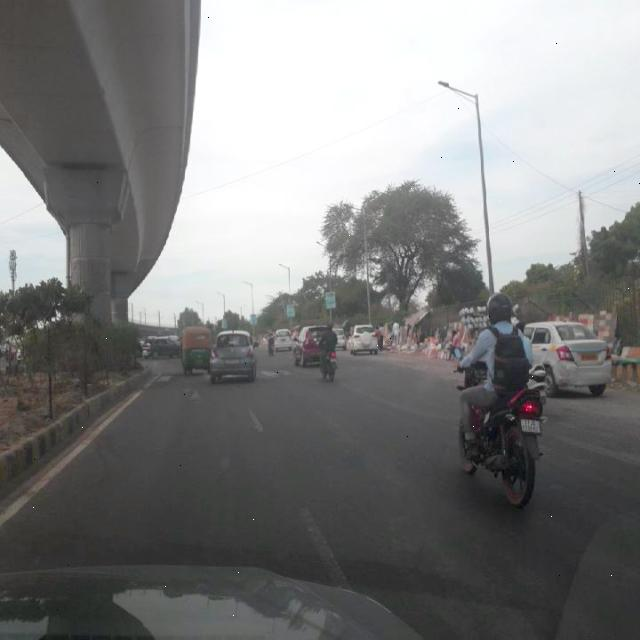D20: (114, 400, 440, 470), (366, 498, 524, 622)
D44: (299, 510, 345, 582)
